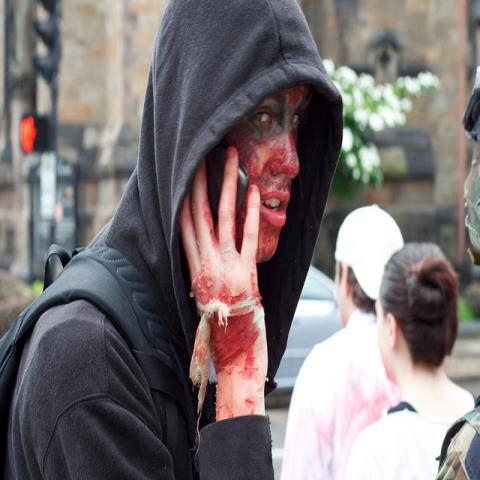car: (274, 264, 344, 389)
